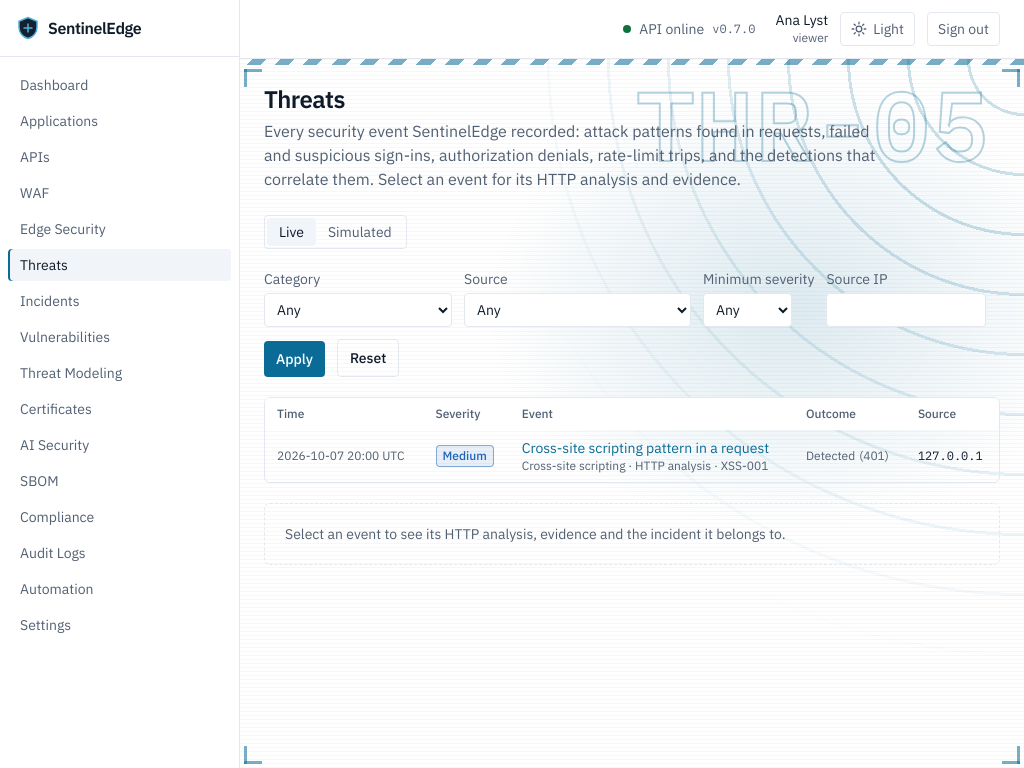
Scenario: threats › offers a viewer no incident action
The image size is (1024, 768).
Click the button "Cross-site scripting pattern in a request" at [646, 448], box [522,438,769,458]
(page scrolled)
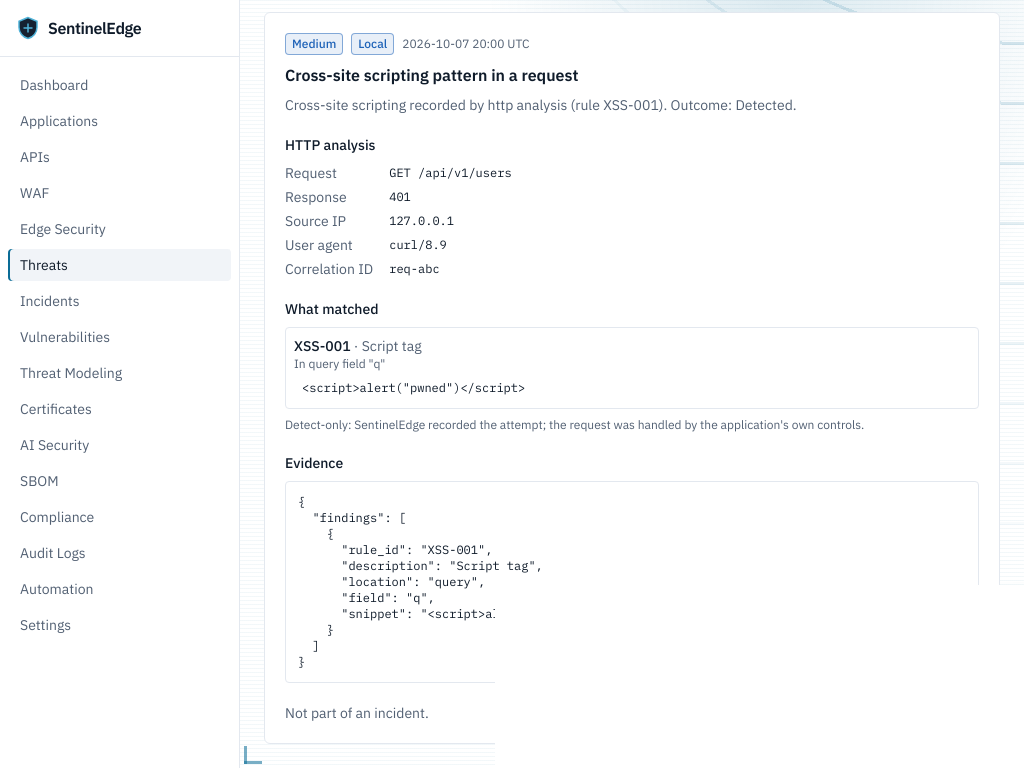
Expected: the text "Not part of an incident." is shown, [285,703,429,723]
